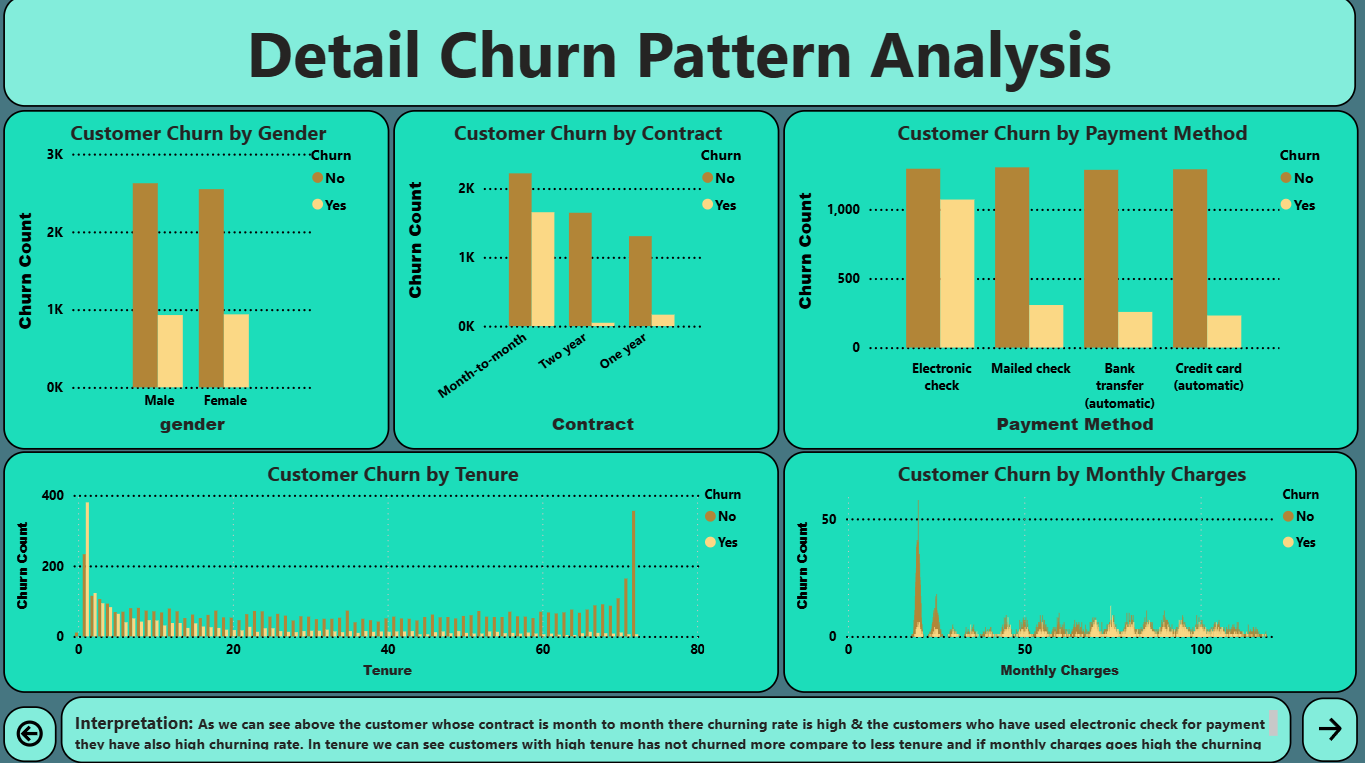

The page's visual inventory and layout, read from the dashboard file:
{"tool":"powerbi","page":{"name":"Detailed","canvas":[1280,720],"ordinal":1},"visuals":[{"type":"clusteredColumnChart","title":"Customer Churn by Gender","fields":{"Category":["WA_Fn-UseC_-Telco-Customer-Churn.gender"],"Y":["CountNonNull(WA_Fn-UseC_-Telco-Customer-Churn.Churn)"],"Series":["WA_Fn-UseC_-Telco-Customer-Churn.Churn"]},"box":[11,111.1,359.5,315.6],"z":0},{"type":"textbox","box":[11,4.1,1258.3,104.3],"z":1000},{"type":"clusteredColumnChart","title":"Customer Churn by Contract","fields":{"Category":["WA_Fn-UseC_-Telco-Customer-Churn.Contract"],"Y":["CountNonNull(WA_Fn-UseC_-Telco-Customer-Churn.Churn)"],"Series":["WA_Fn-UseC_-Telco-Customer-Churn.Churn"]},"box":[373.2,111.1,359.5,315.6],"z":2000},{"type":"clusteredColumnChart","title":"Customer Churn by Tenure","fields":{"Category":["WA_Fn-UseC_-Telco-Customer-Churn.tenure"],"Y":["CountNonNull(WA_Fn-UseC_-Telco-Customer-Churn.Churn)"],"Series":["WA_Fn-UseC_-Telco-Customer-Churn.Churn"]},"box":[11,429.5,721.8,225],"z":3000},{"type":"clusteredColumnChart","title":"Customer Churn by Monthly Charges","fields":{"Category":["WA_Fn-UseC_-Telco-Customer-Churn.MonthlyCharges"],"Y":["CountNonNull(WA_Fn-UseC_-Telco-Customer-Churn.Churn)"],"Series":["WA_Fn-UseC_-Telco-Customer-Churn.Churn"]},"box":[735.5,429.5,533.8,225],"z":4000},{"type":"clusteredColumnChart","title":"Customer Churn by Payment Method","fields":{"Category":["WA_Fn-UseC_-Telco-Customer-Churn.PaymentMethod"],"Y":["CountNonNull(WA_Fn-UseC_-Telco-Customer-Churn.Churn)"],"Series":["WA_Fn-UseC_-Telco-Customer-Churn.Churn"]},"box":[735.5,111.1,535.2,315.6],"z":5000},{"type":"textbox","box":[64,657.4,1145,62.6],"z":6000},{"type":"actionButton","box":[1218.8,658,51.6,60],"z":7000},{"type":"actionButton","box":[10.8,666.4,49.2,51.6],"z":7001}]}

Visuals, with their boxes in screenshot pixels (x1, y1, x2, y2), scaled from the page's 1280x720 canvas onto the 1365x763 screenshot:
"Customer Churn by Gender" clusteredColumnChart: <box>12,118,395,452</box>
textbox: <box>12,4,1354,115</box>
"Customer Churn by Contract" clusteredColumnChart: <box>398,118,781,452</box>
"Customer Churn by Tenure" clusteredColumnChart: <box>12,455,781,694</box>
"Customer Churn by Monthly Charges" clusteredColumnChart: <box>784,455,1354,694</box>
"Customer Churn by Payment Method" clusteredColumnChart: <box>784,118,1355,452</box>
textbox: <box>68,697,1289,762</box>
actionButton: <box>1300,697,1355,761</box>
actionButton: <box>12,706,64,761</box>
